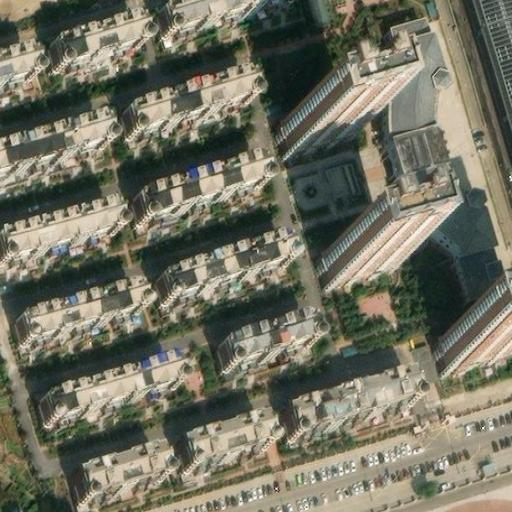building: (388, 9, 512, 299), (40, 352, 188, 422), (131, 151, 273, 220), (156, 232, 293, 298), (15, 279, 147, 343), (118, 74, 250, 136), (0, 197, 126, 261), (285, 371, 406, 433), (0, 112, 114, 172), (177, 412, 276, 470), (219, 311, 319, 363), (75, 444, 170, 498), (319, 225, 395, 280), (442, 304, 512, 359), (282, 90, 353, 142), (0, 31, 46, 71)
